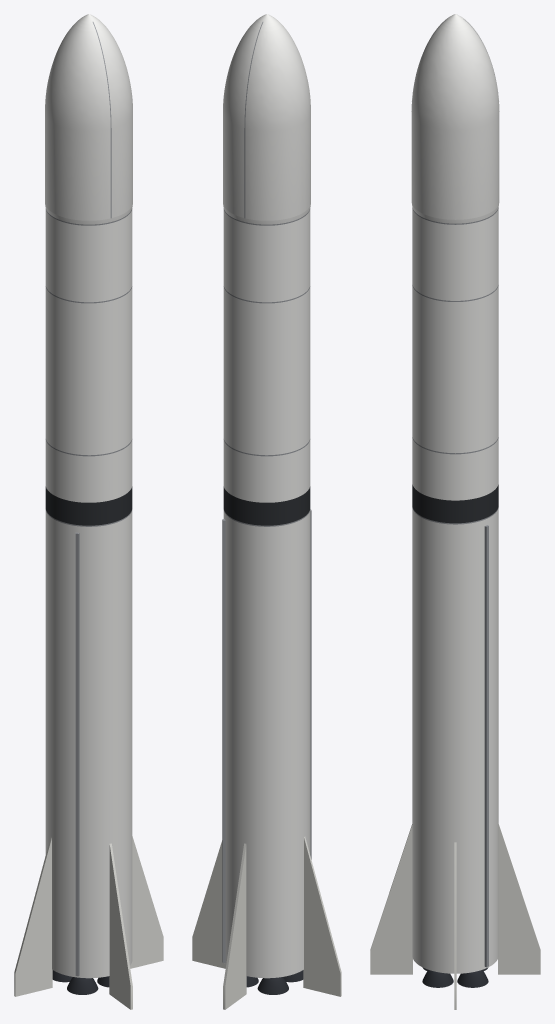
The picture shows the model from 3 angles, left to right: view 1: azimuth 30°, elevation 25°; view 2: azimuth 150°, elevation 25°; view 3: azimuth 270°, elevation 25°; orthographic projection.
Visible parts, largest first — view 1: lm2d; view 2: lm2d; view 3: lm2d.
Part boxes in pixels (x1=…): lm2d: x1=14, y1=14, x2=163, y2=1009; lm2d: x1=192, y1=14, x2=341, y2=1009; lm2d: x1=370, y1=14, x2=540, y2=1009.
Bounding box in the file's own units: 6.6 × 41 × 6.6.
1 material, 1 textured.
